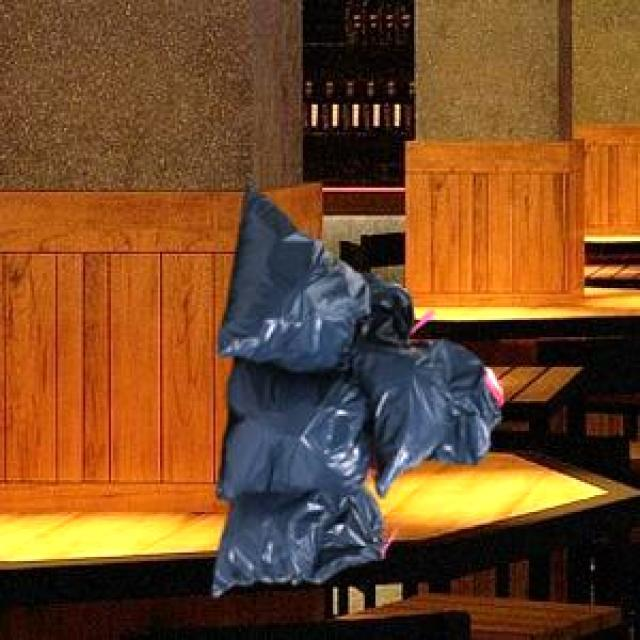Garbage_Bag: (210, 180, 500, 594)
